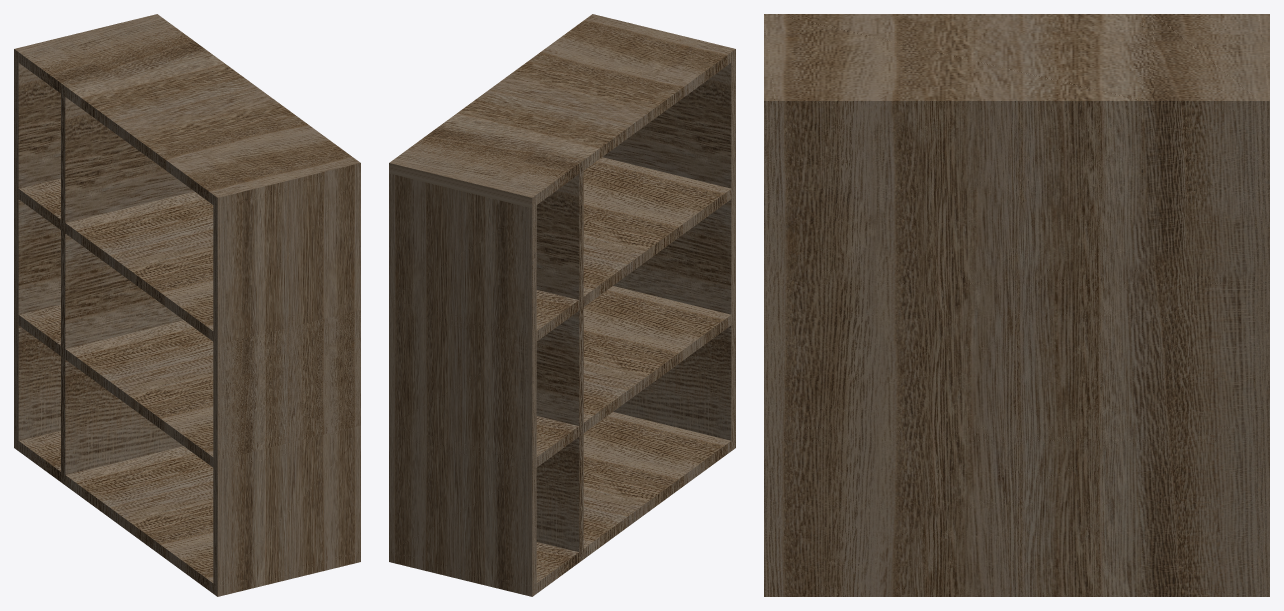
File: Estante.obj
The picture shows the model from 3 angles, left to right: view 1: azimuth 30°, elevation 25°; view 2: azimuth 150°, elevation 25°; view 3: azimuth 270°, elevation 25°; orthographic projection. The views are drawn at different scales.
Parts seen in each view (by area): view 1: the_footwear_stand; view 2: the_footwear_stand; view 3: the_footwear_stand.
Boxes of the visible parts, <box> form: the_footwear_stand: <box>14,14,360,596</box>; the_footwear_stand: <box>389,14,735,596</box>; the_footwear_stand: <box>764,14,1269,596</box>.
Bounding box in the file's own units: 1.11 × 2.96 × 2.74.
Materials: 1 (1 with a texture image).
